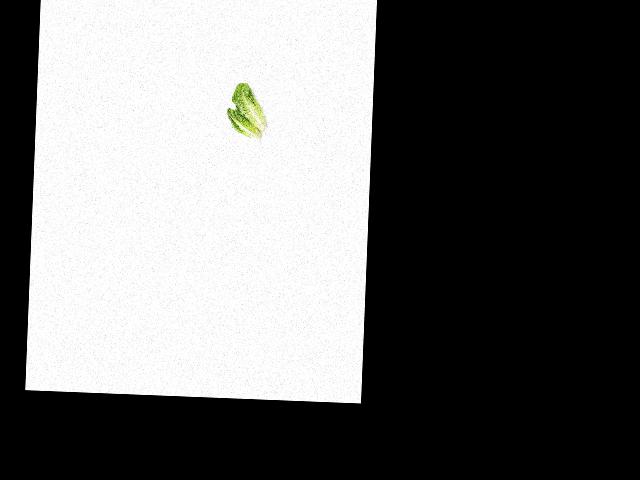lettuce: (229, 82, 271, 128)
